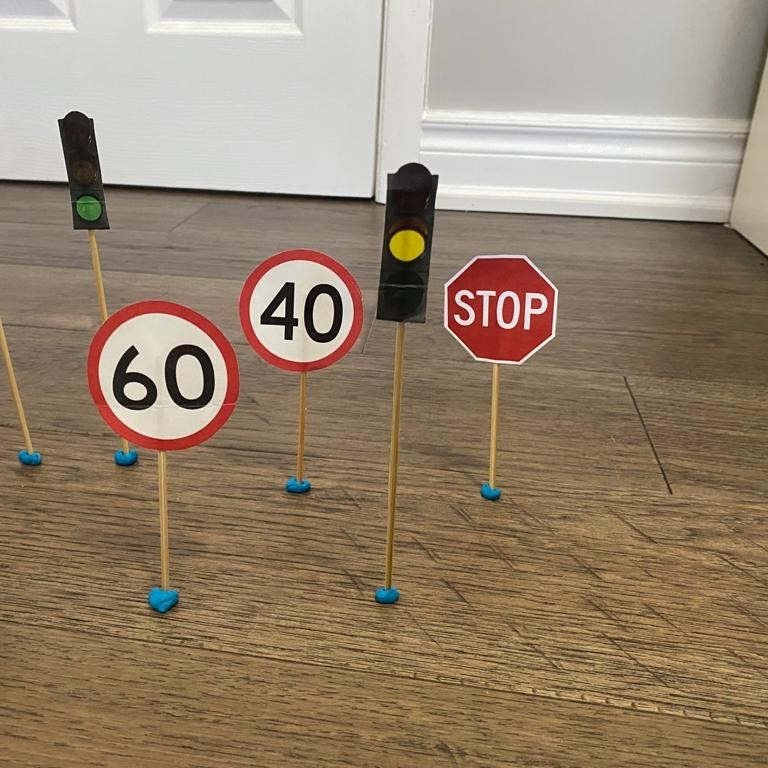Green Traffic Light: (53, 111, 113, 237)
Speed Limit 40: (237, 245, 361, 381)
Speed Limit 60: (83, 296, 238, 461)
Stop Sign: (443, 252, 560, 374)
Yellow Traffic Light: (370, 161, 443, 330)
